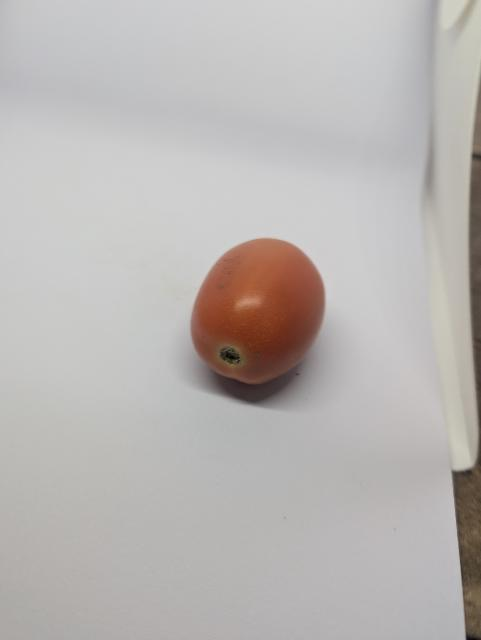red: (176, 227, 350, 393)
